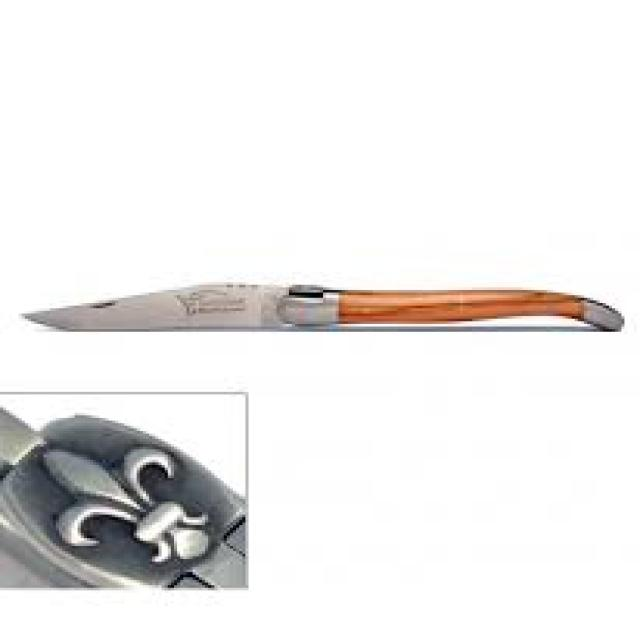knives: (12, 277, 628, 339)
